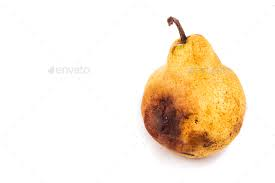damaged_pear: (141, 34, 244, 157)
